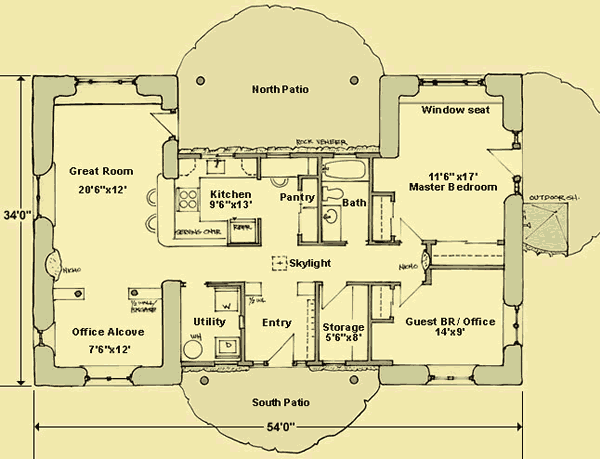bathroom has a tub, small and large sink: (318, 153, 374, 247)
kitchen has a cooking range, and other cooking facility: (173, 152, 262, 249)
laundry room has a washer and dryer: (176, 284, 244, 366)
